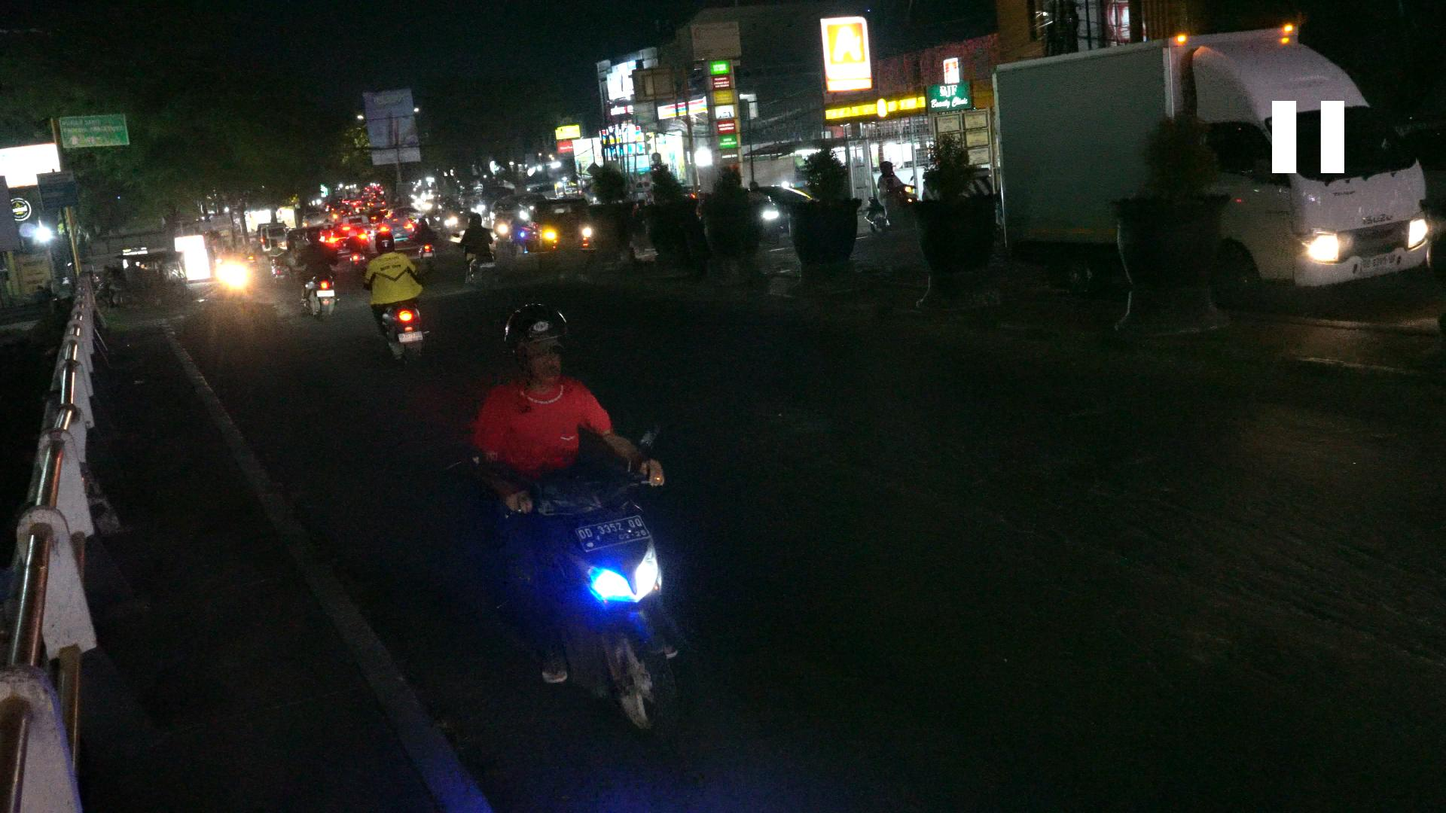number-plate: (572, 509, 651, 550)
